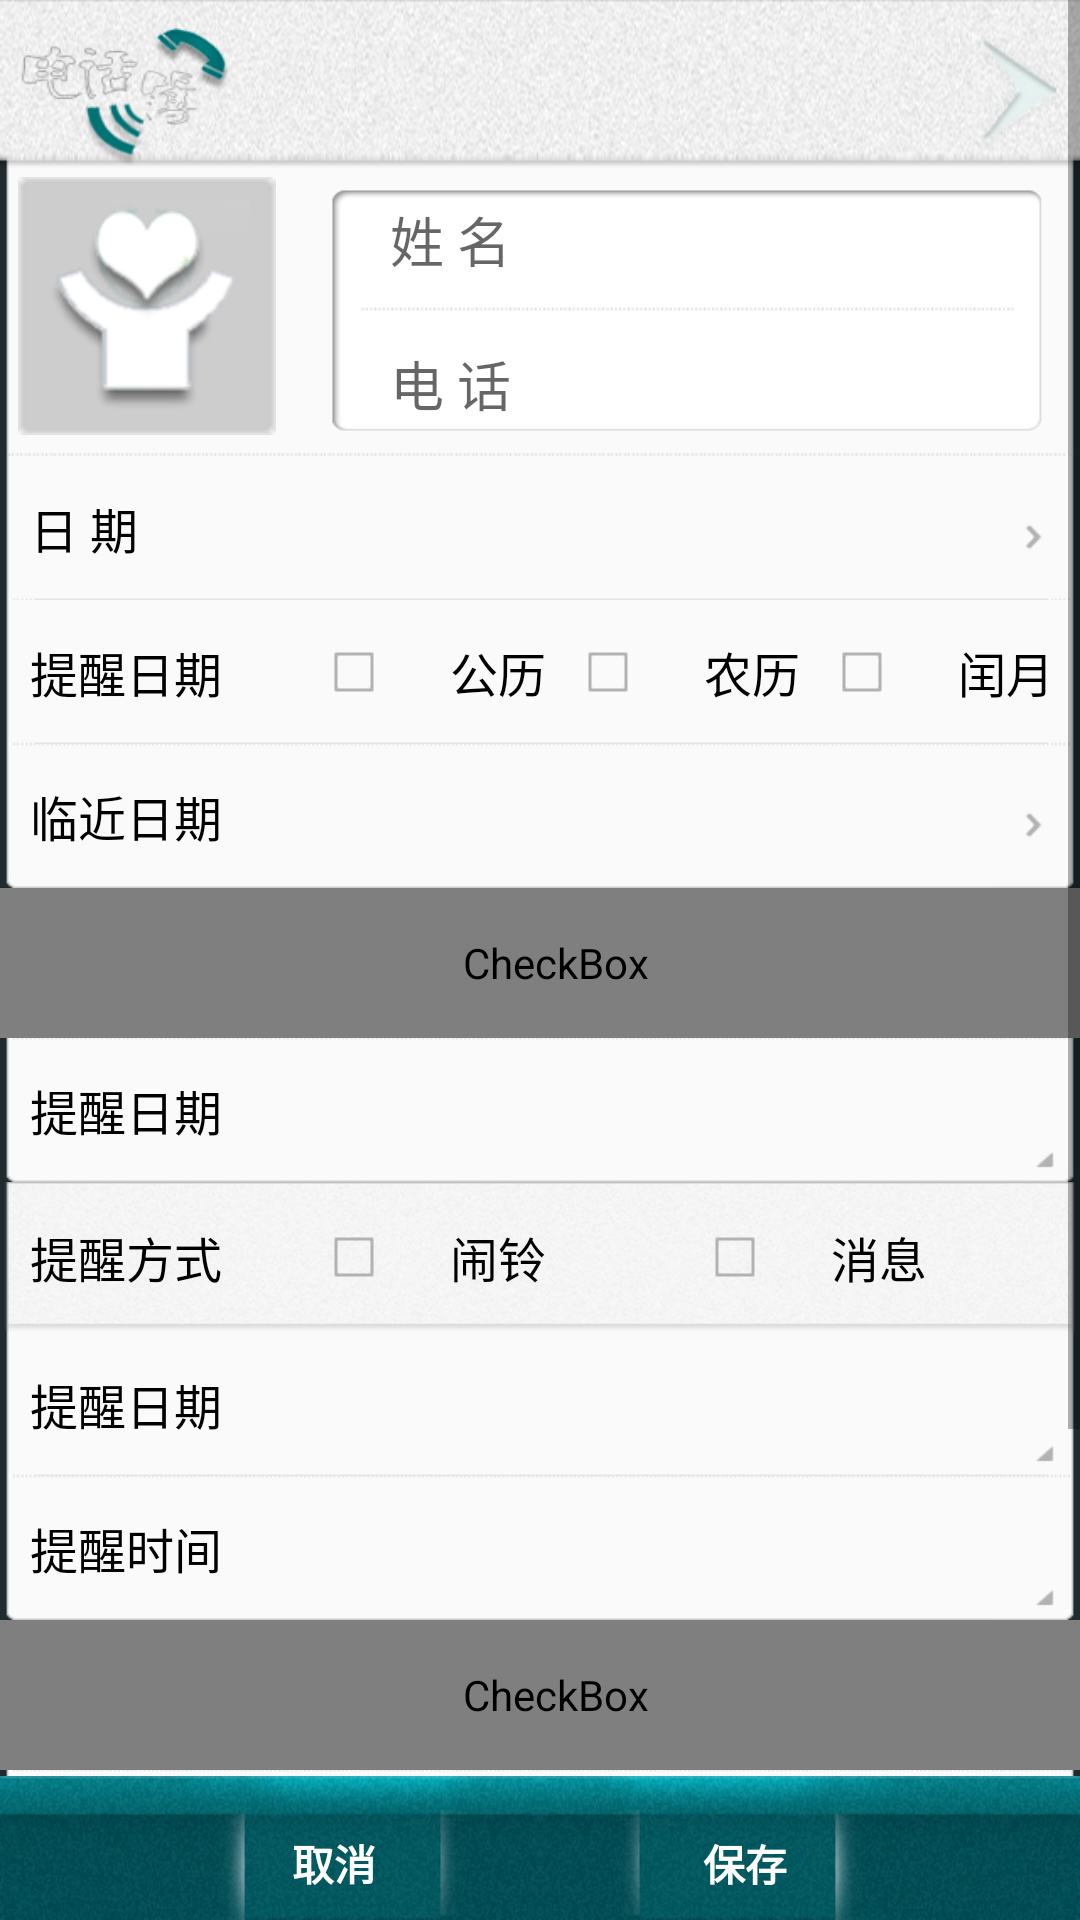

Named icons in this screenshot (1080 x 1920) and their bounding boxes, rect(x1, y1, x2, y2):
defaulttx: rect(18, 178, 276, 435)
